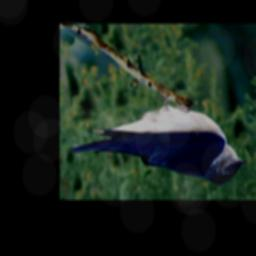Swallow: (69, 89, 250, 185)
